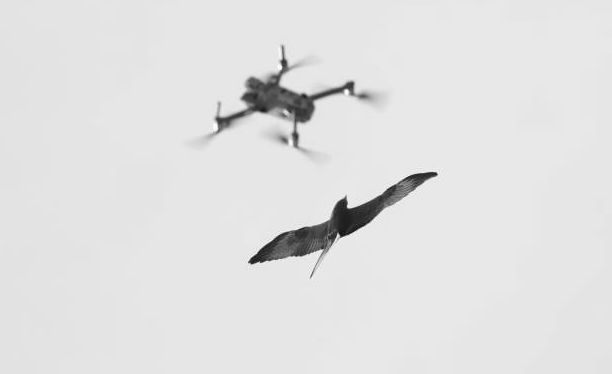Bird: (246, 169, 439, 282)
Drone: (177, 41, 391, 160)
